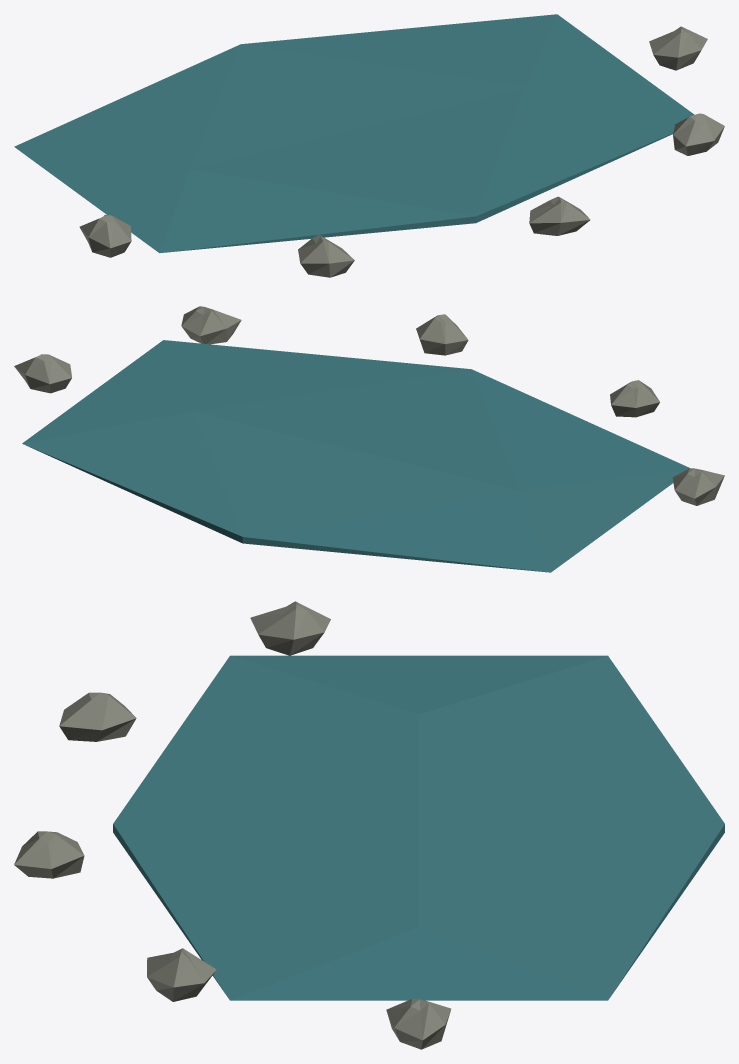
File: lake-far.glb
3 renders of one model, top to bottom at view 1: azimuth 30°, elevation 25°; view 2: azimuth 150°, elevation 25°; view 3: azimuth 270°, elevation 25°, orthographic. The views are drawn at different scales.
Visible parts, largest first — view 1: world-scenery/lake-far; view 2: world-scenery/lake-far; view 3: world-scenery/lake-far.
Boxes of the visible parts, x1,y1,x2,y2 form: world-scenery/lake-far: (14,14,724,277); world-scenery/lake-far: (14,306,724,572); world-scenery/lake-far: (14,601,724,1049).
Size of the model in its own units: 6.51 by 0.2935 by 4.6.
